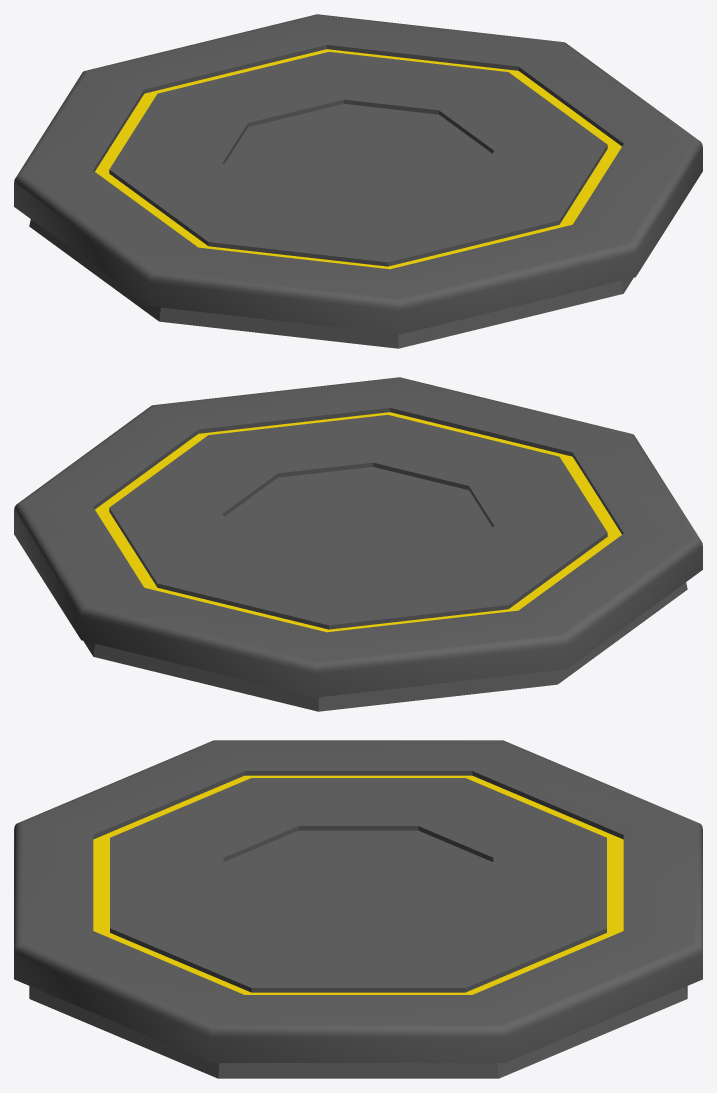
The model's file is button.FBX.
The picture shows the model from 3 angles, top to bottom: view 1: azimuth 30°, elevation 25°; view 2: azimuth 150°, elevation 25°; view 3: azimuth 270°, elevation 25°; orthographic projection. The views are drawn at different scales.
Parts seen in each view (by area): view 1: Box001; view 2: Box001; view 3: Box001.
Boxes of the visible parts, x1,y1,x2,y2 form: Box001: (14,14,702,348); Box001: (14,377,702,711); Box001: (14,740,702,1078).
Bounding box in the file's own units: 63.94 × 5.8 × 63.94.
